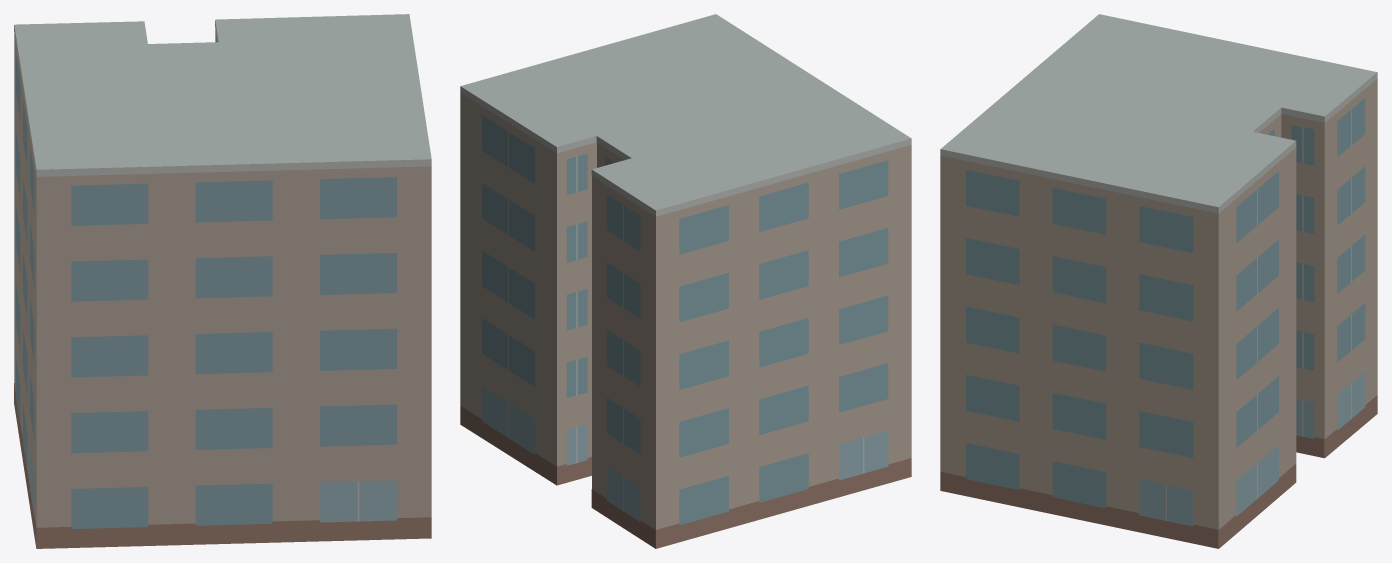
The model's file is survey-upis-32974564.glb.
The picture shows the model from 3 angles, left to right: view 1: azimuth 30°, elevation 25°; view 2: azimuth 150°, elevation 25°; view 3: azimuth 270°, elevation 25°; orthographic projection. The views are drawn at different scales.
Visible parts, largest first — view 1: survey-upis-32974564.tmp; view 2: survey-upis-32974564.tmp; view 3: survey-upis-32974564.tmp.
Part boxes in pixels (x1,y1,x2,y2): survey-upis-32974564.tmp: (14, 14, 431, 548); survey-upis-32974564.tmp: (460, 14, 911, 548); survey-upis-32974564.tmp: (940, 14, 1377, 548).
Size of the model in its own units: 15.9 by 13.1 by 15.2.
